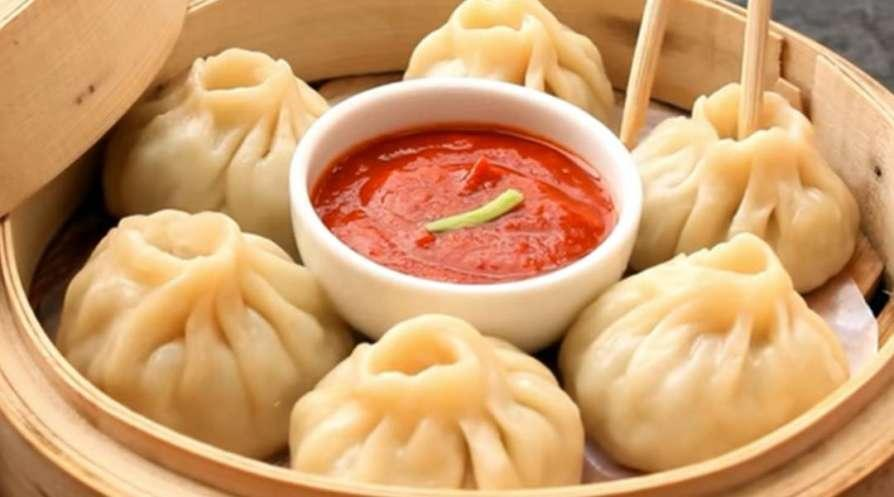momos: (56, 210, 353, 457), (559, 234, 849, 471), (290, 314, 583, 488), (630, 84, 859, 292), (103, 49, 328, 256), (403, 0, 615, 127)
